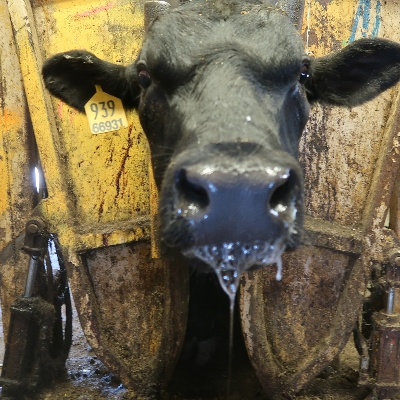fidget_spinner: (175, 156, 300, 252)
